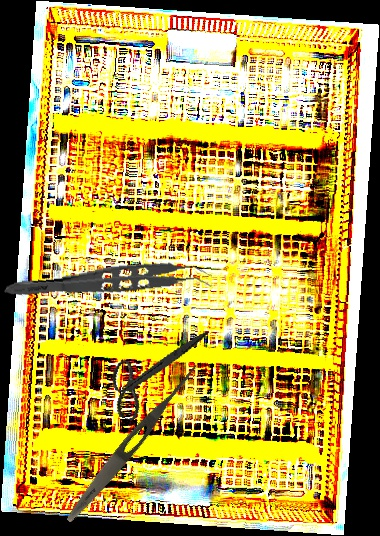Dressing Forceps: (61, 357, 204, 527)
Iris Scissors: (99, 305, 211, 437)
Tissue Forceps: (2, 254, 214, 315)
